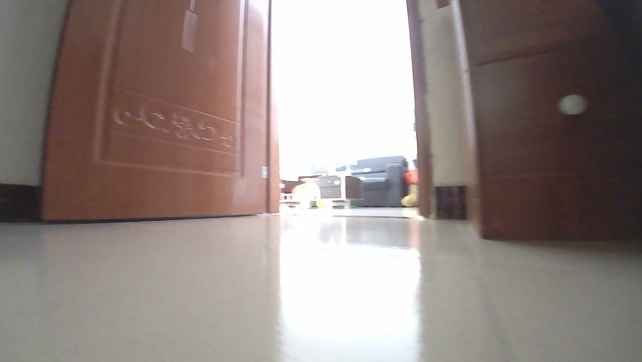door_anno: (34, 0, 278, 226)
sofa1: (353, 153, 410, 207)
